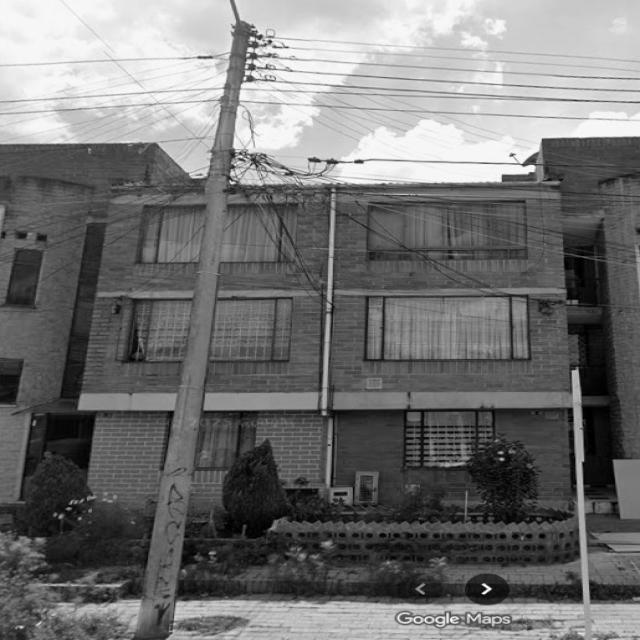Fachada: (191, 183, 569, 505), (0, 144, 185, 502), (527, 137, 639, 517), (78, 187, 203, 503)
Poste: (134, 16, 251, 639)
